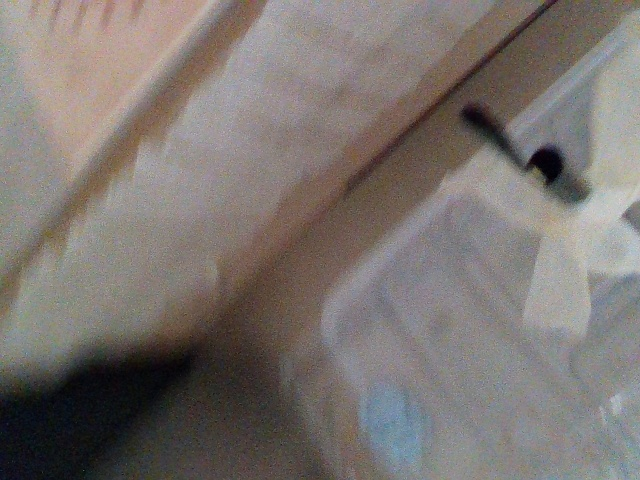test_strip: (455, 100, 546, 187)
